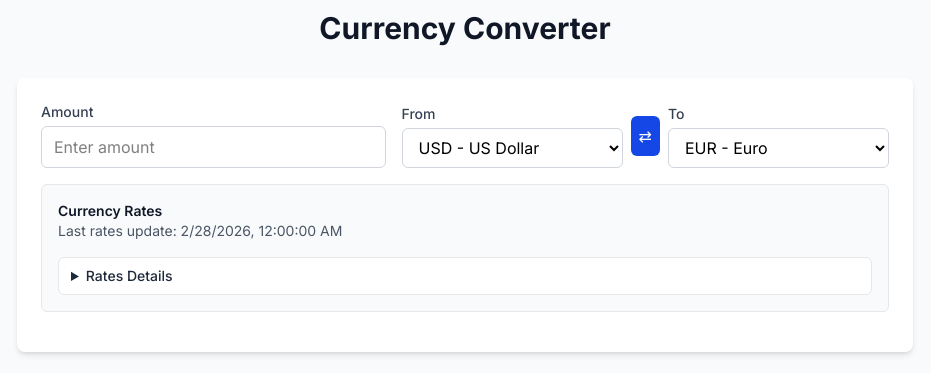
Test: CurrencyConverter currency selection behavior › swaps currencies when selecting From equal to current To
Expected: the dropdown labelled "To" shows "EUR - Euro", [668,128,889,168]
Select "EUR - Euro" in the dropdown labelled "From" at (512, 148), box [402,128,623,168]
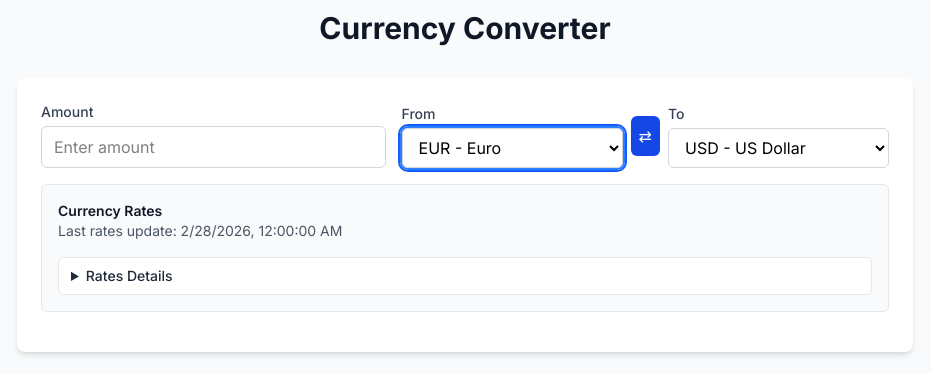
Expected: the dropdown labelled "To" shows "USD - US Dollar", [668,128,889,168]
